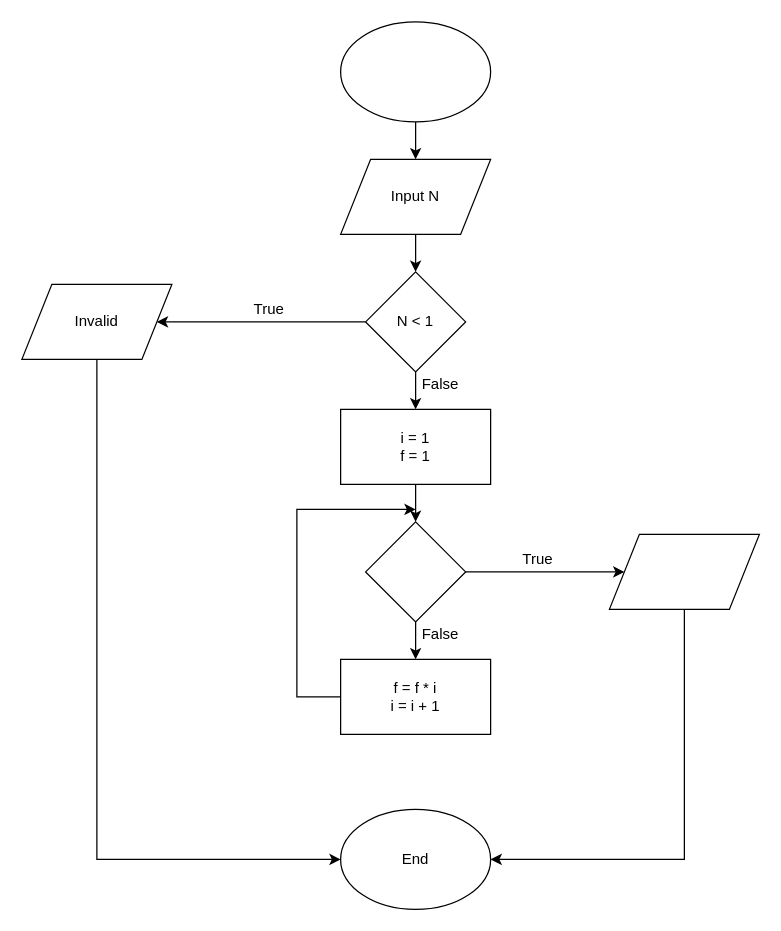
The diagram is 781 pixels wide and 931 high, and some of its shapes have lost their labels. The shapes that lost their labels are listed below. From the top down, each one's centre as x and y in pixels, then its label:
point 415,71: Start
point 415,571: i > N
point 683,571: Output f
